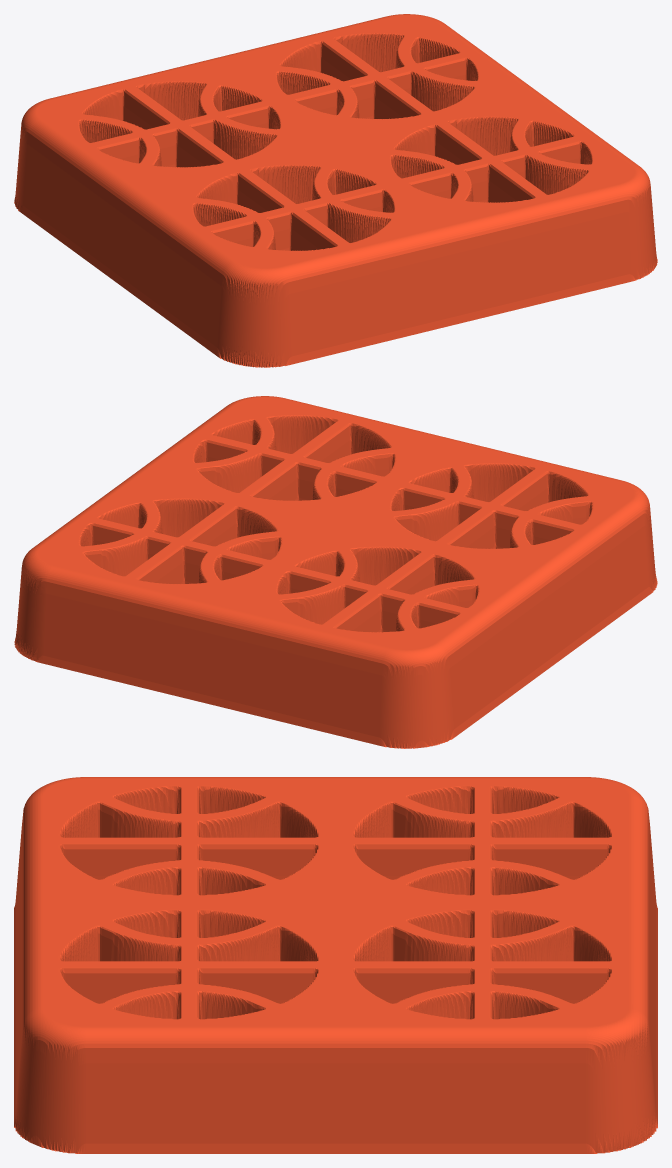
Rendered from mold.glb.
3 views of the same model, one above another, from view 1: azimuth 30°, elevation 25°; view 2: azimuth 150°, elevation 25°; view 3: azimuth 270°, elevation 25° (orthographic). The views are drawn at different scales.
Visible parts, largest first — view 1: geometry_0; view 2: geometry_0; view 3: geometry_0.
Boxes of the visible parts, x1,y1,x2,y2 form: geometry_0: (14, 14, 657, 367); geometry_0: (14, 396, 657, 748); geometry_0: (14, 777, 657, 1153).
Bounding box in the file's own units: 0.0808 × 0.0159 × 0.0808.
